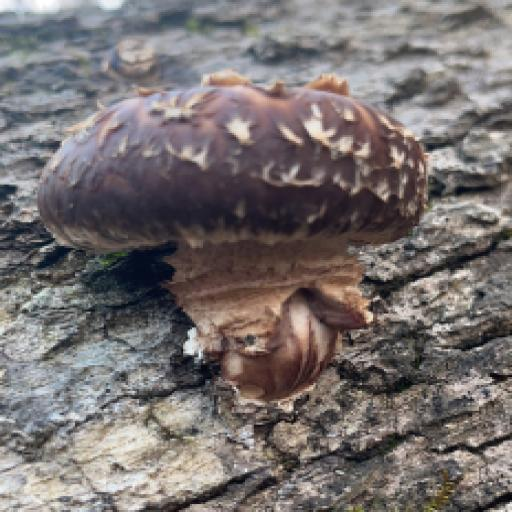Shiitake Mushroom: (5, 0, 458, 411)
